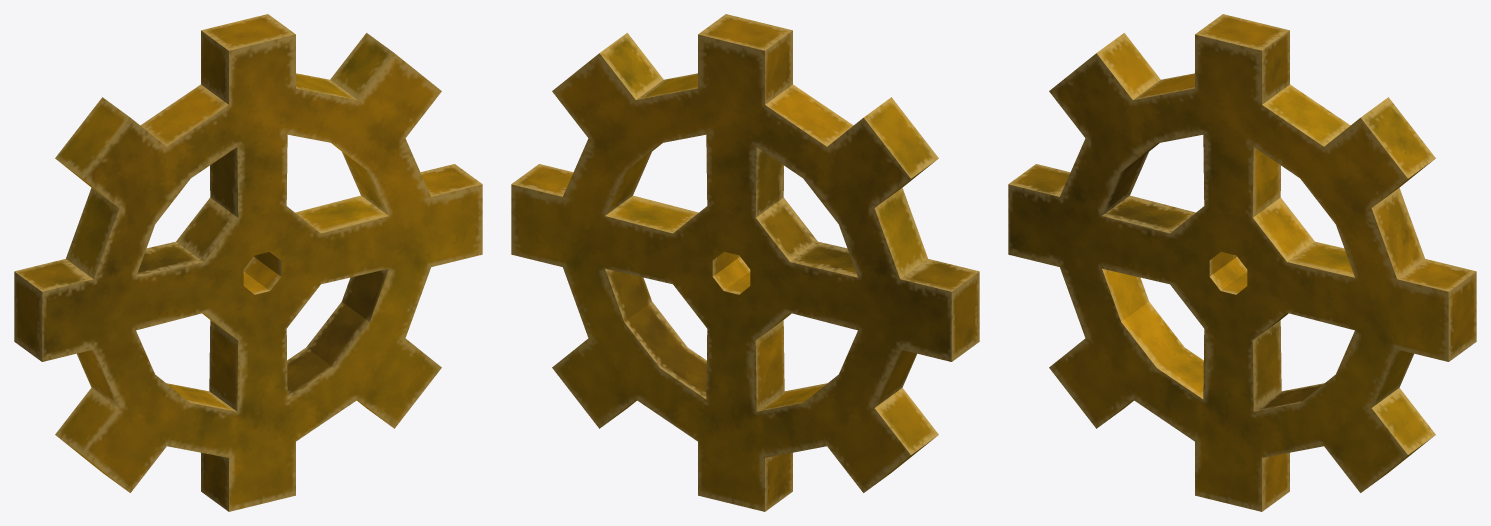
File: Gear.fbx
The picture shows the model from 3 angles, left to right: view 1: azimuth 30°, elevation 25°; view 2: azimuth 150°, elevation 25°; view 3: azimuth 330°, elevation 25°; orthographic projection.
Visible parts, largest first — view 1: Gear; view 2: Gear; view 3: Gear.
Part boxes in pixels (bbox=[...]): Gear: bbox=[14, 14, 482, 511]; Gear: bbox=[511, 14, 979, 511]; Gear: bbox=[1008, 14, 1476, 511].
Bounding box in the file's own units: 0.5 × 0.5 × 0.055.
